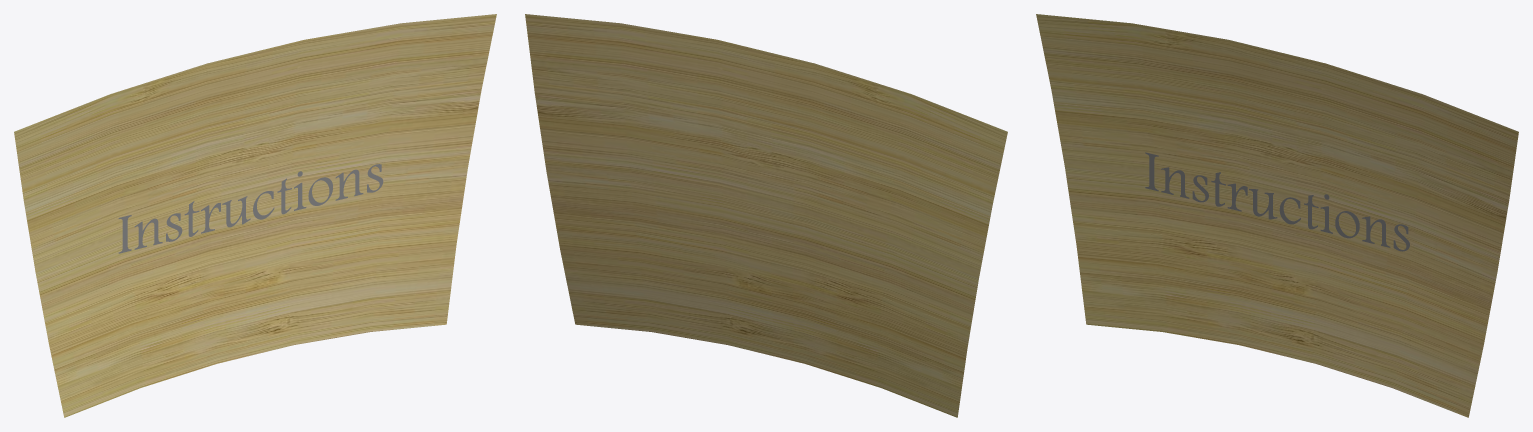
File: enterInstructions.FBX
3 views of the same model, side by side, from view 1: azimuth 30°, elevation 25°; view 2: azimuth 150°, elevation 25°; view 3: azimuth 330°, elevation 25° (orthographic).
Visible parts, largest first — view 1: Plane005, TextPlus005; view 2: Plane005; view 3: Plane005, TextPlus005.
Part boxes in pixels (x1,y1,x2,y2): Plane005: (14, 14, 496, 417); TextPlus005: (118, 164, 383, 253); Plane005: (525, 14, 1007, 417); Plane005: (1036, 14, 1518, 417); TextPlus005: (1145, 152, 1409, 251).
Bounding box in the file's own units: 131 × 82.95 × 1.72.
Materials: 2 (1 with a texture image).
